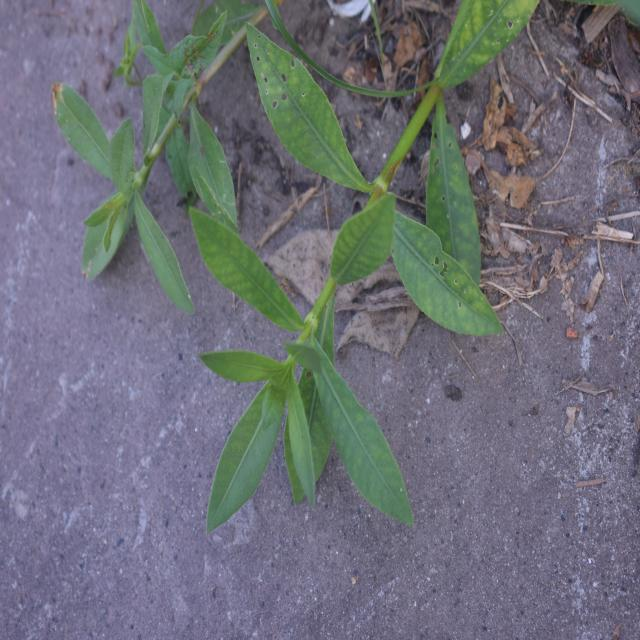Alligatorweed: (202, 103, 472, 552), (50, 36, 242, 324)
